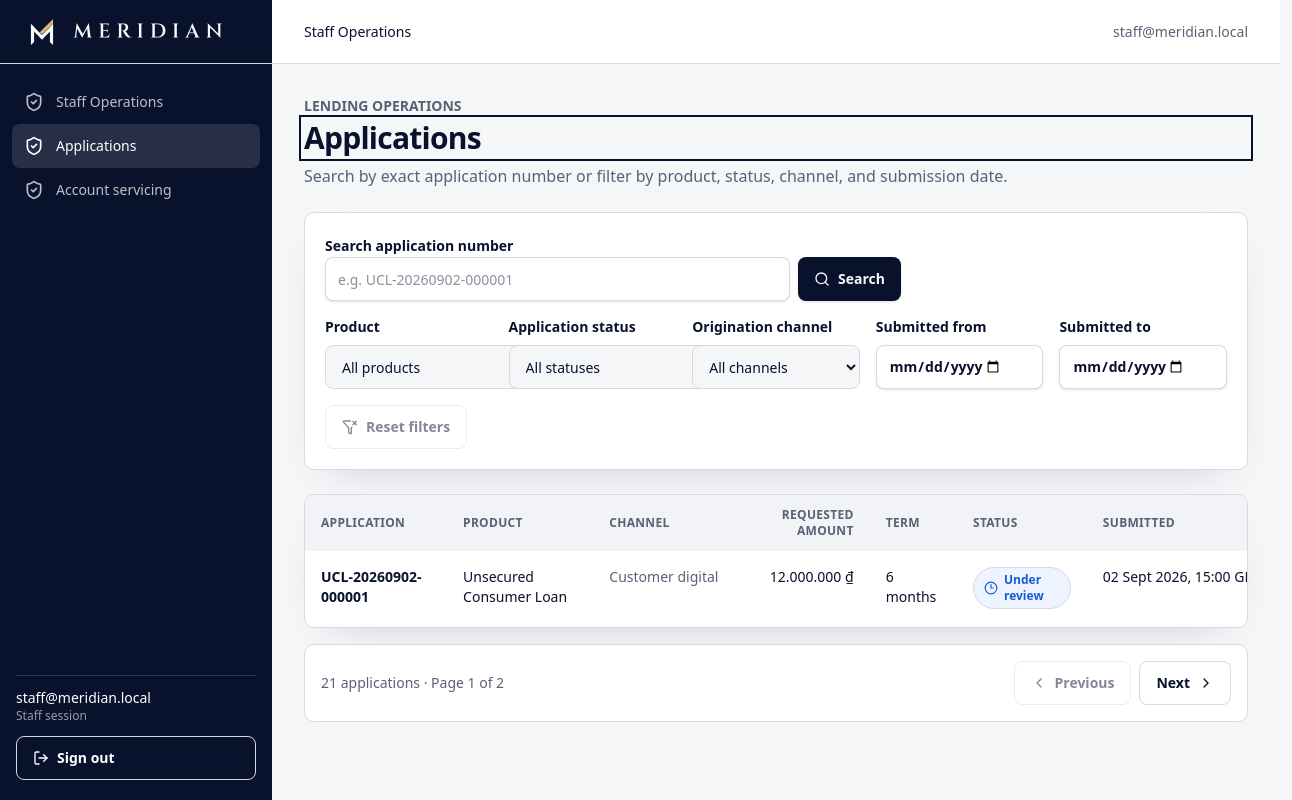
Test case: Staff application pages › rejects partial and private-identity search drafts without changing applied results or requesting data
The width and height of the screenshot is (1292, 800).
Expected: the text "UCL-20260902-000001" is shown, [305,551,447,627]
Step 1. Type "customer@meridian.local" into the field labelled "Search application number" → (558, 279), box [325,257,790,301]
Then press Enter
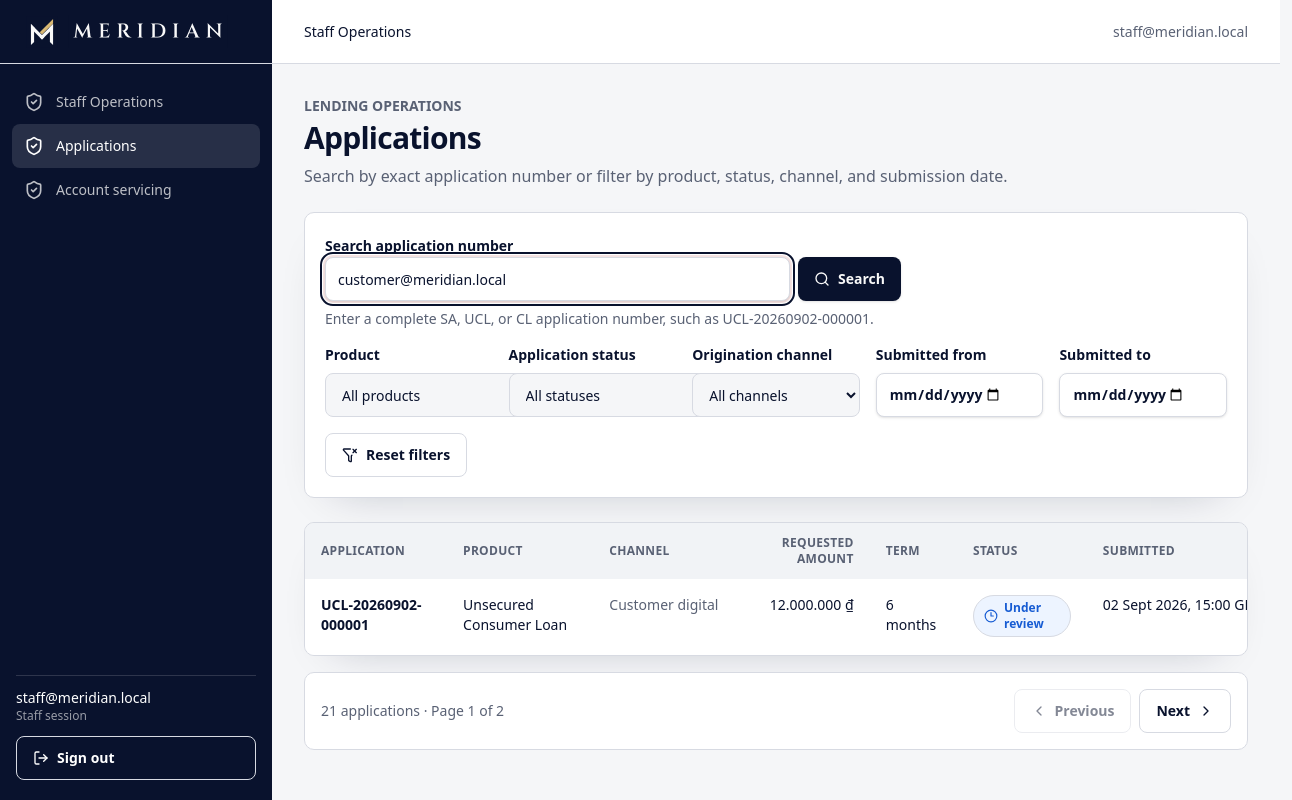
Expected: the text "UCL-20260902-000001" is shown, [305,579,447,655]
Expected: the message shows "Enter a complete SA, UCL, or CL application number", [325,309,874,328]
Step 2. Click the button "Reset filters" → (396, 455), box [325,433,467,477]
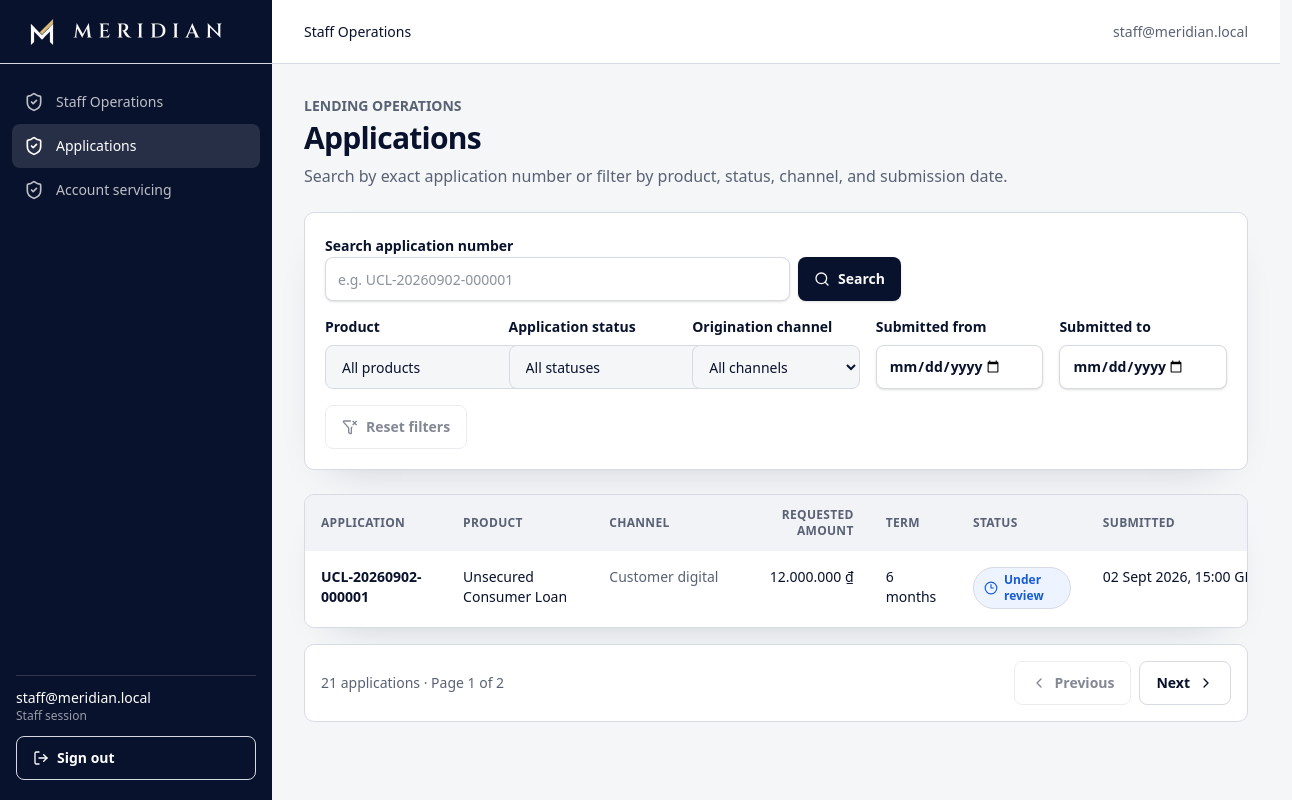
Expected: the field labelled "Search application number" is empty, [325,257,790,301]
Expected: the message with id "application-number-help" is gone
